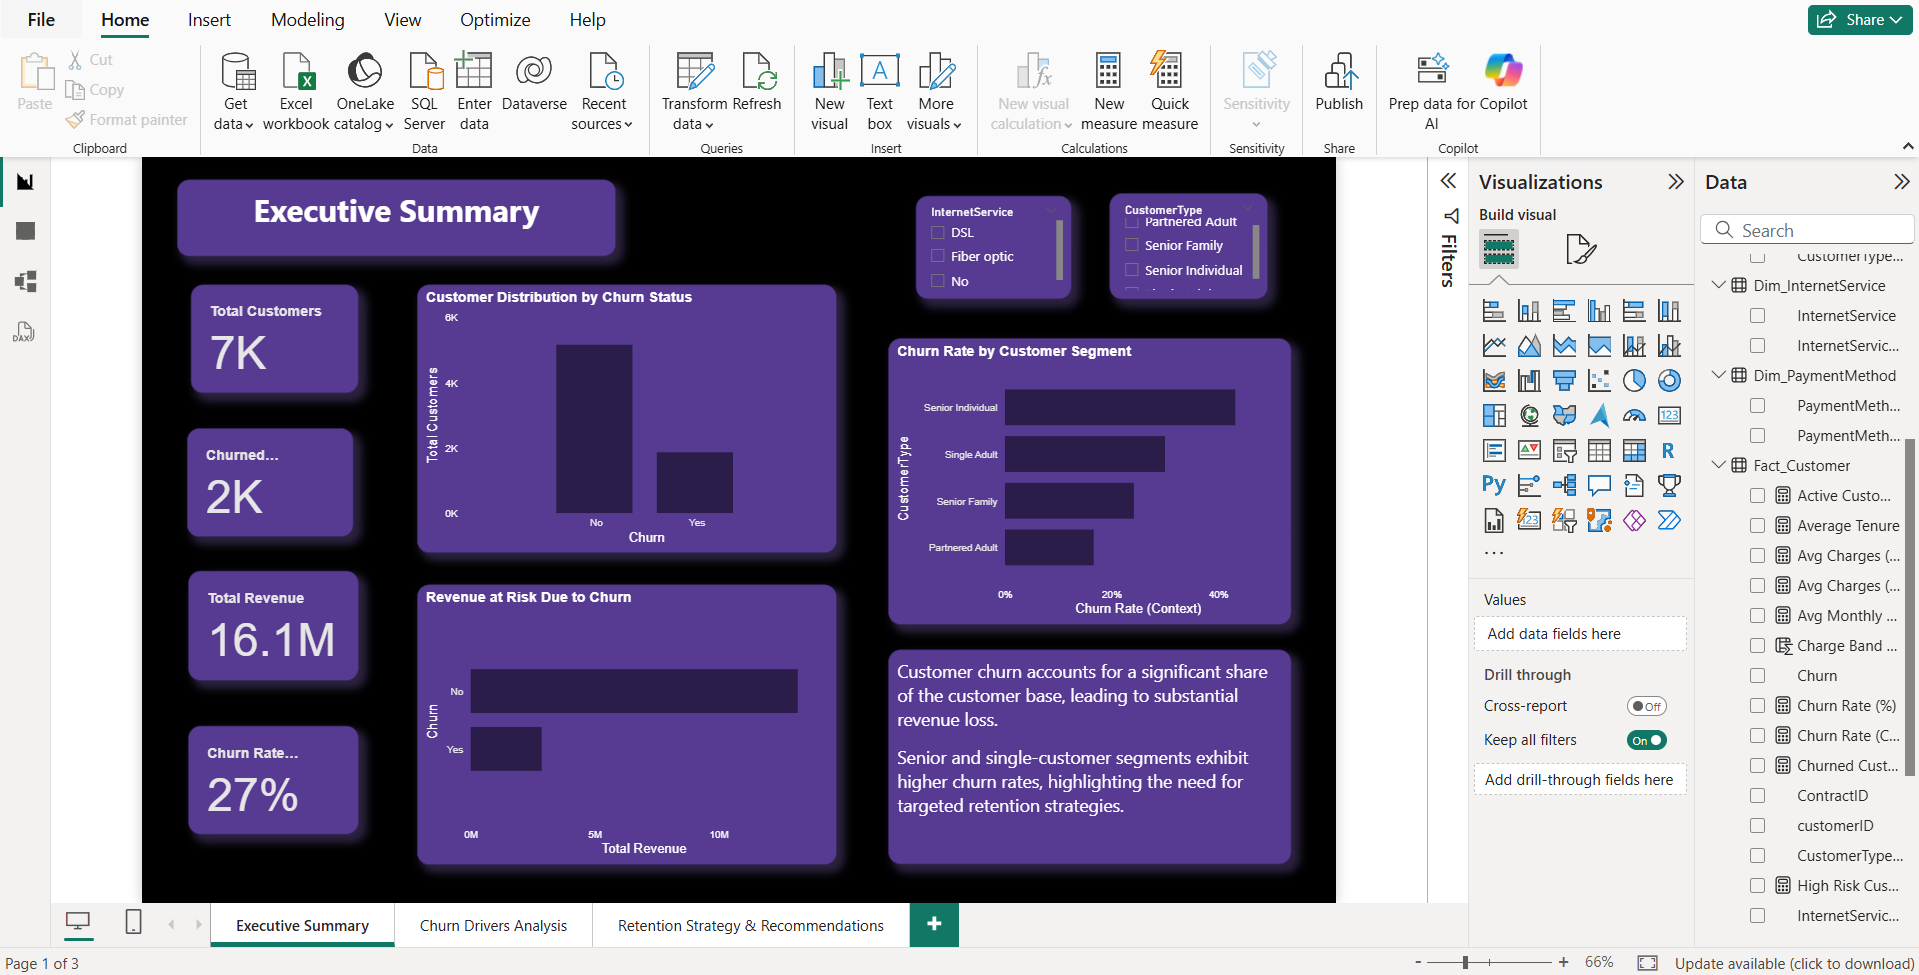

The page's visual inventory and layout, read from the dashboard file:
{"tool":"powerbi","page":{"name":"Executive Summary","canvas":[1440,900],"ordinal":0},"visuals":[{"type":"cardVisual","fields":{"Data":["Fact_Customer.Total Customers"]},"box":[58.7,154.4,202.2,131.2],"z":0},{"type":"cardVisual","fields":{"Data":["Fact_Customer.Churned Customers"]},"box":[54,327.3,200.7,131.2],"z":1000},{"type":"cardVisual","fields":{"Data":["Fact_Customer.Churn Rate (Context)"]},"box":[55.6,685.4,205.3,131.2],"z":2000},{"type":"cardVisual","fields":{"Data":["Fact_Customer.Total Revenue"]},"box":[55.6,498.6,205.3,132.8],"z":3000},{"type":"columnChart","title":"Customer Distribution by Churn Status","fields":{"Category":["Fact_Customer.Churn"],"Y":["Fact_Customer.Total Customers"]},"box":[331.9,154.4,506.3,324.2],"z":4000},{"type":"clusteredBarChart","title":"Churn Rate by Customer Segment","fields":{"Y":["Fact_Customer.Churn Rate (Context)"],"Category":["Dim_CustomerType.CustomerType"]},"box":[900,219.2,486.3,345.8],"z":5000},{"type":"barChart","title":"Revenue at Risk Due to Churn","fields":{"Category":["Fact_Customer.Churn"],"Y":["Fact_Customer.Total Revenue"]},"box":[331.9,515.6,506.3,338.1],"z":6000},{"type":"slicer","fields":{"Values":["Dim_InternetService.InternetService"]},"box":[934,46.3,188.3,125],"z":7000},{"type":"slicer","fields":{"Values":["Dim_CustomerType.CustomerType"]},"box":[1167.1,43.2,191.4,128.1],"z":8000},{"type":"textbox","box":[900,594.3,486.3,259.3],"z":9000},{"type":"textbox","box":[41.7,27.8,529.5,92.6],"z":10000}]}

Visuals, with their boxes on the page's 1440x900 design canvas (x1, y1, x2, y2). These are canvas units, not pixel positions in the 1919x975 screenshot, which may show the page scaled, cropped or inside an application window:
cardVisual - Fact_Customer.Total Customers: [59, 154, 261, 286]
cardVisual - Fact_Customer.Churned Customers: [54, 327, 255, 458]
cardVisual - Fact_Customer.Churn Rate (Context): [56, 685, 261, 817]
cardVisual - Fact_Customer.Total Revenue: [56, 499, 261, 631]
"Customer Distribution by Churn Status" columnChart: [332, 154, 838, 479]
"Churn Rate by Customer Segment" clusteredBarChart: [900, 219, 1386, 565]
"Revenue at Risk Due to Churn" barChart: [332, 516, 838, 854]
slicer - Dim_InternetService.InternetService: [934, 46, 1122, 171]
slicer - Dim_CustomerType.CustomerType: [1167, 43, 1358, 171]
textbox: [900, 594, 1386, 854]
textbox: [42, 28, 571, 120]
